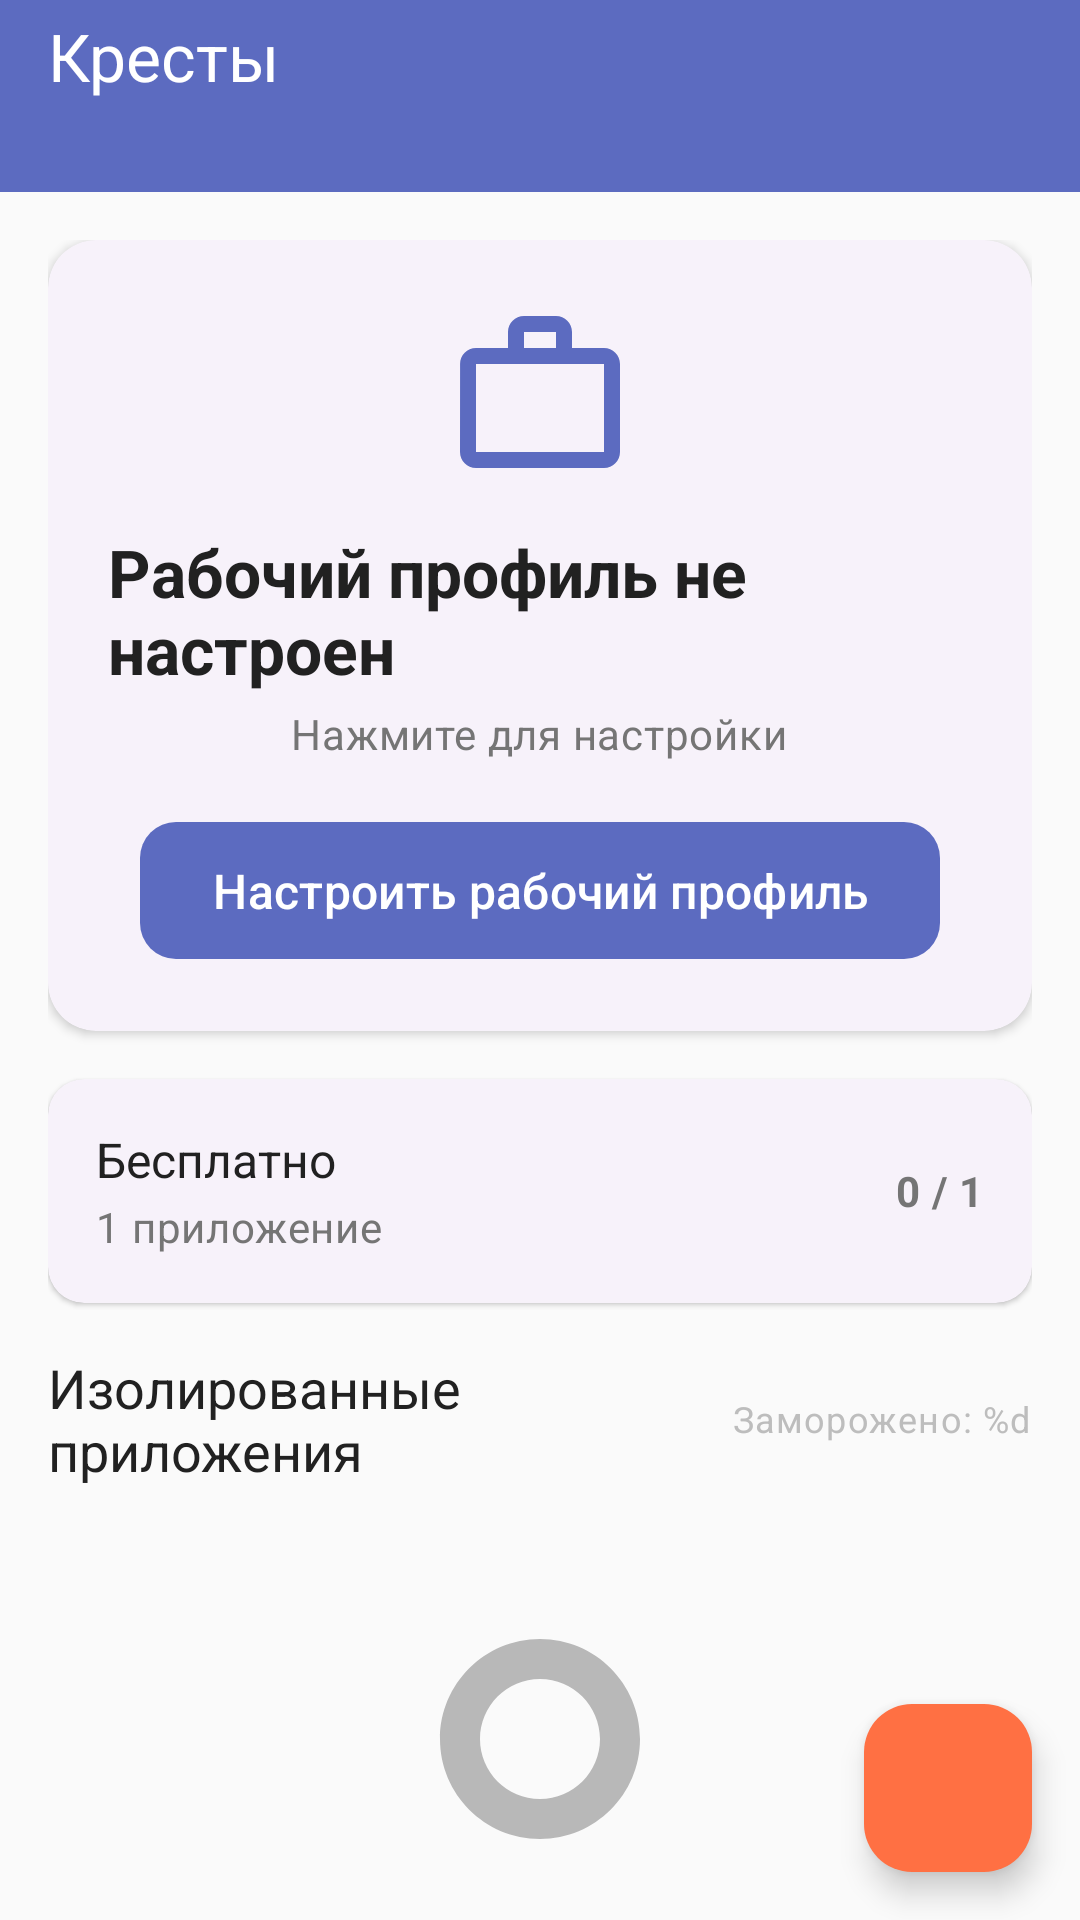

Locate icon controls on the screen. Image size 1080*1920, boxes as (x1, y1, x2, y2).
Рабочий профиль активен: (460, 316, 620, 468)
